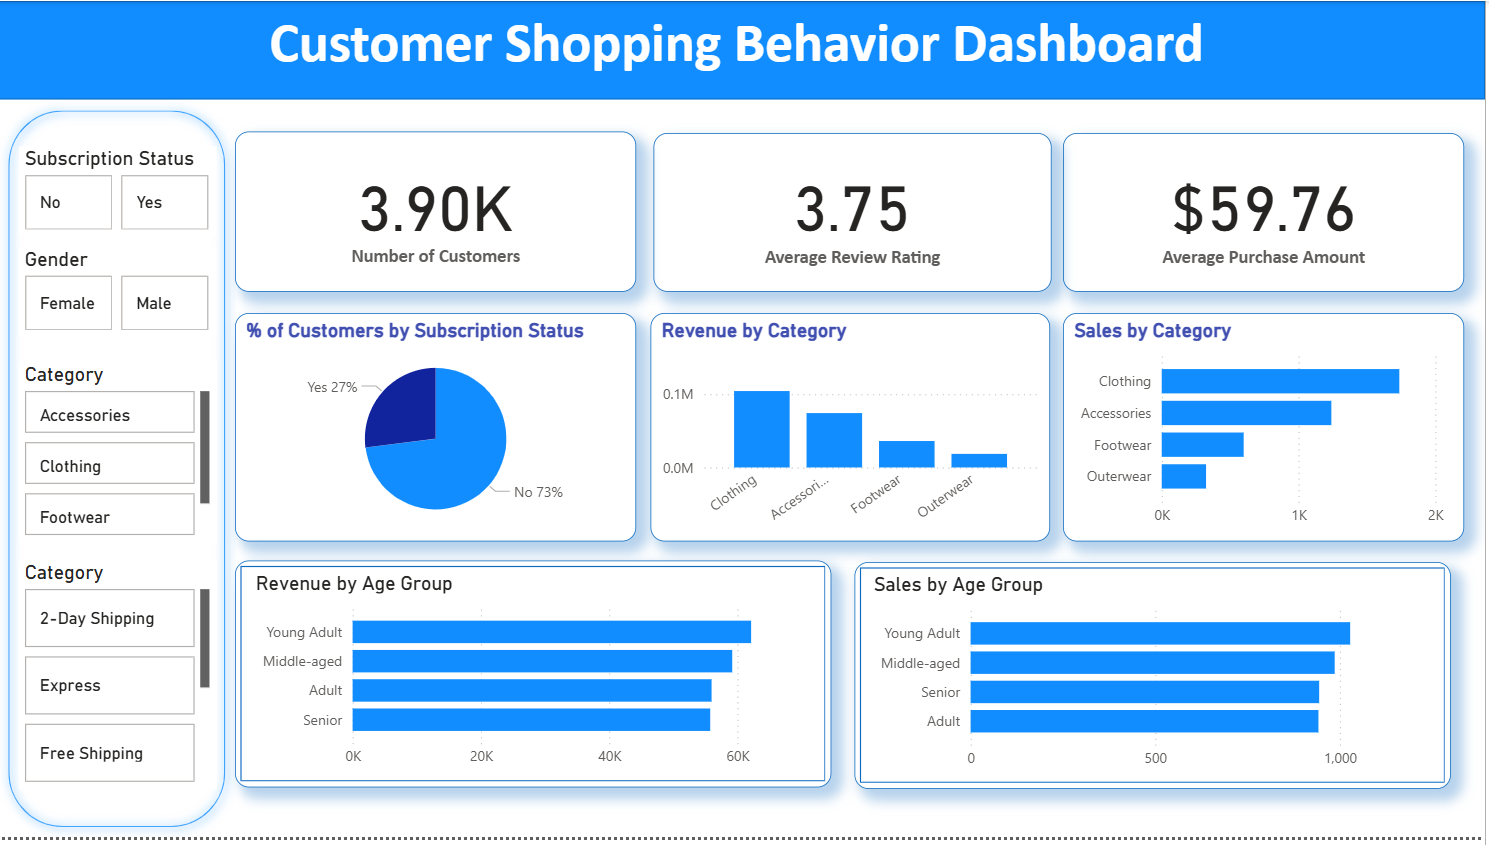

The dashboard page shown, as its layout file describes it:
{"tool":"powerbi","page":{"name":"Page 1","canvas":[1280,720],"ordinal":0},"visuals":[{"type":"card","fields":{"Values":["public customer.Average Purchase Amount"]},"box":[916.7,113.6,345.5,136.4],"z":0},{"type":"card","fields":{"Values":["public customer.Average Review Rating"]},"box":[563.6,113.6,342.4,136.4],"z":1000},{"type":"card","fields":{"Values":["public customer.Number of Customers"]},"box":[204.5,112.1,345.5,137.9],"z":2000},{"type":"pieChart","title":"% of Customers by Subscription Status","fields":{"Category":["public customer.subscription_status"],"Y":["Count(public customer.customer_id)"]},"box":[204.5,268.2,345.5,197],"z":3000},{"type":"clusteredColumnChart","title":"Revenue by Category","fields":{"Category":["public customer.category"],"Y":["Sum(public customer.purchase_amount)"]},"box":[562.1,268.2,343.9,197],"z":4000},{"type":"clusteredBarChart","title":"Sales by Category","fields":{"Category":["public customer.category"],"Y":["CountNonNull(public customer.customer_id)"]},"box":[916.7,268.2,345.5,197],"z":5000},{"type":"shape","box":[0,84.8,204.5,634.8],"z":6000},{"type":"advancedSlicerVisual","title":"Subscription Status","fields":{"Values":["public customer.subscription_status"]},"box":[18.2,125.8,169.7,77.3],"z":7000},{"type":"advancedSlicerVisual","title":"Gender","fields":{"Values":["public customer.gender"]},"box":[18.2,212.1,169.7,77.3],"z":8000},{"type":"advancedSlicerVisual","title":"Category","fields":{"Values":["public customer.category"]},"box":[18.2,310.6,169.7,154.5],"z":9000},{"type":"advancedSlicerVisual","title":"Category","fields":{"Values":["public customer.shipping_type"]},"box":[18.2,481.8,169.7,197],"z":10000},{"type":"shape","box":[204.5,481.8,513.6,195.5],"z":11000},{"type":"clusteredBarChart","title":"Revenue by Age Group","fields":{"Y":["Sum(public customer.purchase_amount)"],"Category":["public customer.age_group"]},"box":[216.7,490.9,489.4,177.3],"z":12000},{"type":"shape","box":[736.8,482.7,513.6,195.5],"z":13000},{"type":"clusteredBarChart","title":"Sales by Age Group","fields":{"Y":["CountNonNull(public customer.customer_id)"],"Category":["public customer.age_group"]},"box":[748.9,491.8,489.4,177.3],"z":14000},{"type":"shape","box":[0,0,1280.3,84.8],"z":15000},{"type":"textbox","box":[228.8,0,824.2,86.4],"z":16000}]}

Visuals, with their boxes in screenshot pixels (x1, y1, x2, y2), scaled from the page's 1280x720 canvas onto the 1489x845 screenshot:
card - public customer.Average Purchase Amount: <bbox>1066, 133, 1468, 293</bbox>
card - public customer.Average Review Rating: <bbox>656, 133, 1054, 293</bbox>
card - public customer.Number of Customers: <bbox>238, 132, 640, 293</bbox>
"% of Customers by Subscription Status" pieChart: <bbox>238, 315, 640, 546</bbox>
"Revenue by Category" clusteredColumnChart: <bbox>654, 315, 1054, 546</bbox>
"Sales by Category" clusteredBarChart: <bbox>1066, 315, 1468, 546</bbox>
shape: <bbox>0, 100, 238, 844</bbox>
"Subscription Status" advancedSlicerVisual: <bbox>21, 148, 219, 238</bbox>
"Gender" advancedSlicerVisual: <bbox>21, 249, 219, 340</bbox>
"Category" advancedSlicerVisual: <bbox>21, 365, 219, 546</bbox>
"Category" advancedSlicerVisual: <bbox>21, 565, 219, 797</bbox>
shape: <bbox>238, 565, 835, 795</bbox>
"Revenue by Age Group" clusteredBarChart: <bbox>252, 576, 821, 784</bbox>
shape: <bbox>857, 567, 1455, 796</bbox>
"Sales by Age Group" clusteredBarChart: <bbox>871, 577, 1440, 785</bbox>
shape: <bbox>0, 0, 1488, 100</bbox>
textbox: <bbox>266, 0, 1225, 101</bbox>
